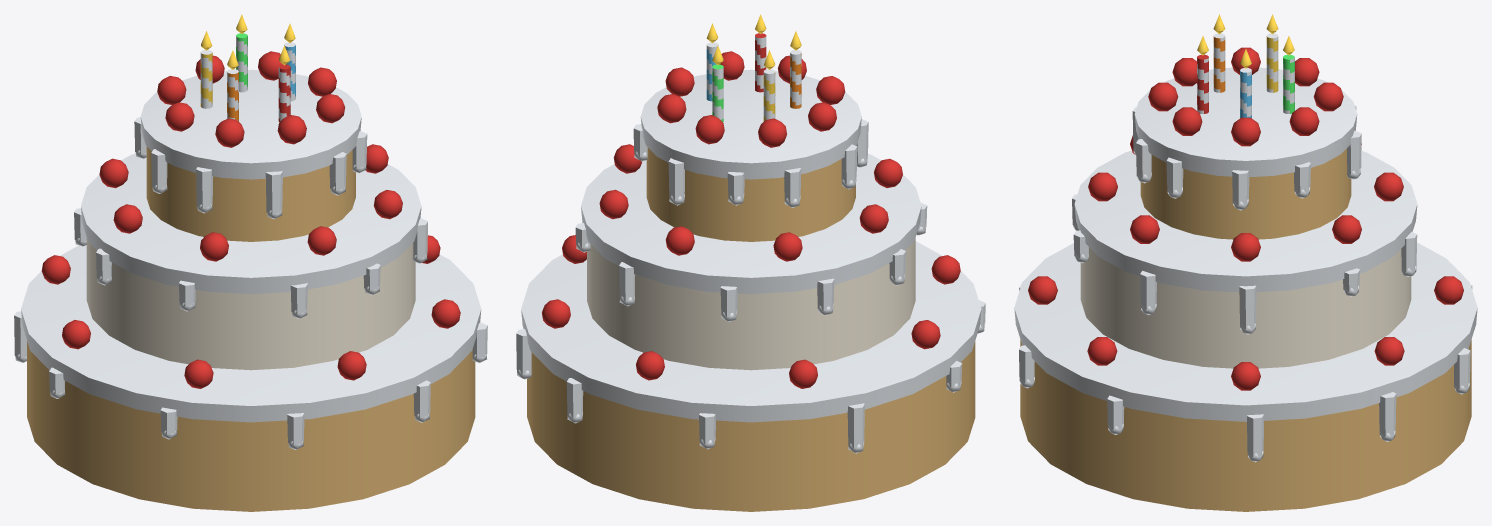
File: LayerCake.fbx
3 views of the same model, side by side, from view 1: azimuth 30°, elevation 25°; view 2: azimuth 150°, elevation 25°; view 3: azimuth 270°, elevation 25° (orthographic).
Visible parts, largest first — view 1: LayerCake; view 2: LayerCake; view 3: LayerCake.
Boxes of the visible parts, left/top/right/bottom form: LayerCake: left=14, top=14, right=487, bottom=511; LayerCake: left=516, top=14, right=985, bottom=511; LayerCake: left=1014, top=14, right=1477, bottom=511.
Size of the model in its own units: 6.35 by 5.68 by 6.16.
Materials: 2 (2 with a texture image).
